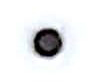cancer: (19, 14, 85, 70)
